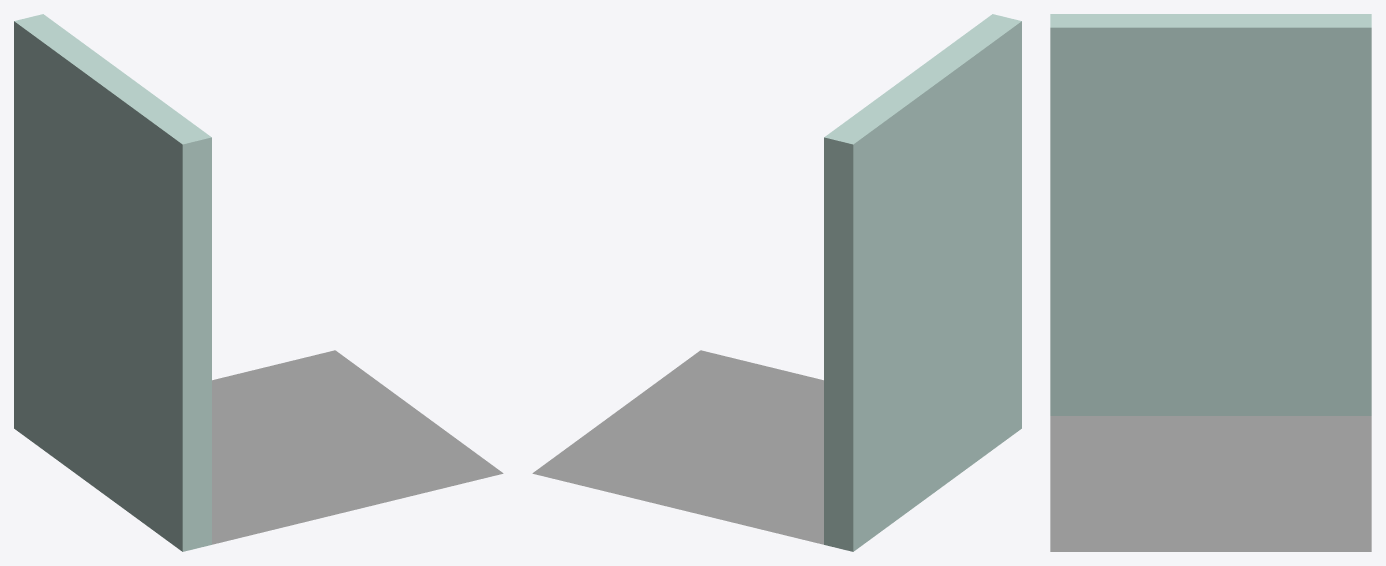
Rendered from Wall Tile.fbx.
3 views of the same model, side by side, from view 1: azimuth 30°, elevation 25°; view 2: azimuth 150°, elevation 25°; view 3: azimuth 270°, elevation 25° (orthographic). The views are drawn at different scales.
Visible parts, largest first — view 1: polySurface22; view 2: polySurface22; view 3: polySurface22.
Part boxes in pixels (box(x1,y1,x2,y2)): polySurface22: box(14, 14, 503, 551); polySurface22: box(532, 14, 1021, 551); polySurface22: box(1050, 14, 1371, 551).
Size of the model in its own units: 3.3 by 4 by 3.
